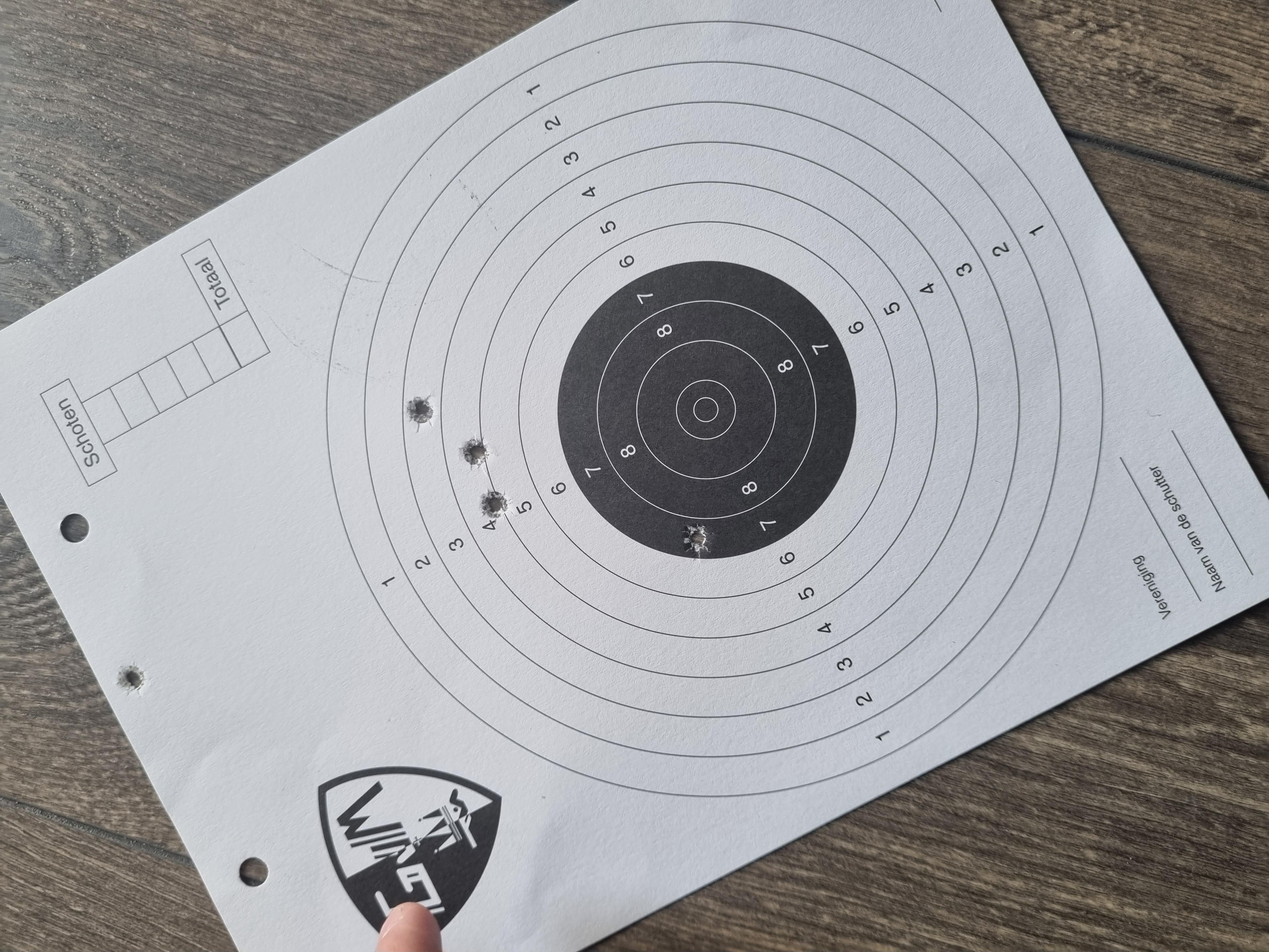hole: (641, 344, 687, 372), (526, 508, 575, 534), (699, 301, 743, 328), (576, 357, 617, 382)
